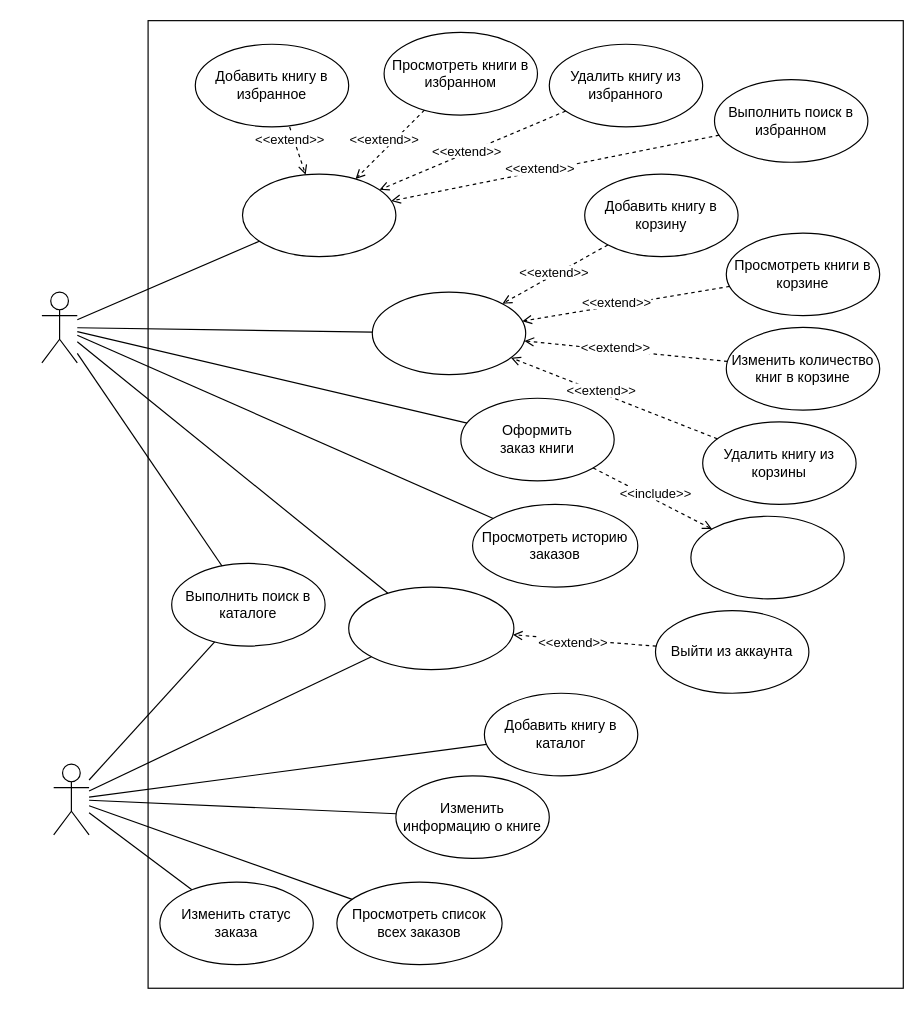
Some shapes in this 924 by 1009 pixel diagram are drawn without their labels. Here are the shapes that lost their labels. From the top down, the centre of each, then its label:
At point (318, 215): "Управлять избранным".
At point (59, 327): "Клиент".
At point (448, 333): "Управлять корзиной".
At point (767, 557): "Указать параметры заказа".
At point (431, 628): "Авторизоваться".
At point (71, 799): "Администратор".
